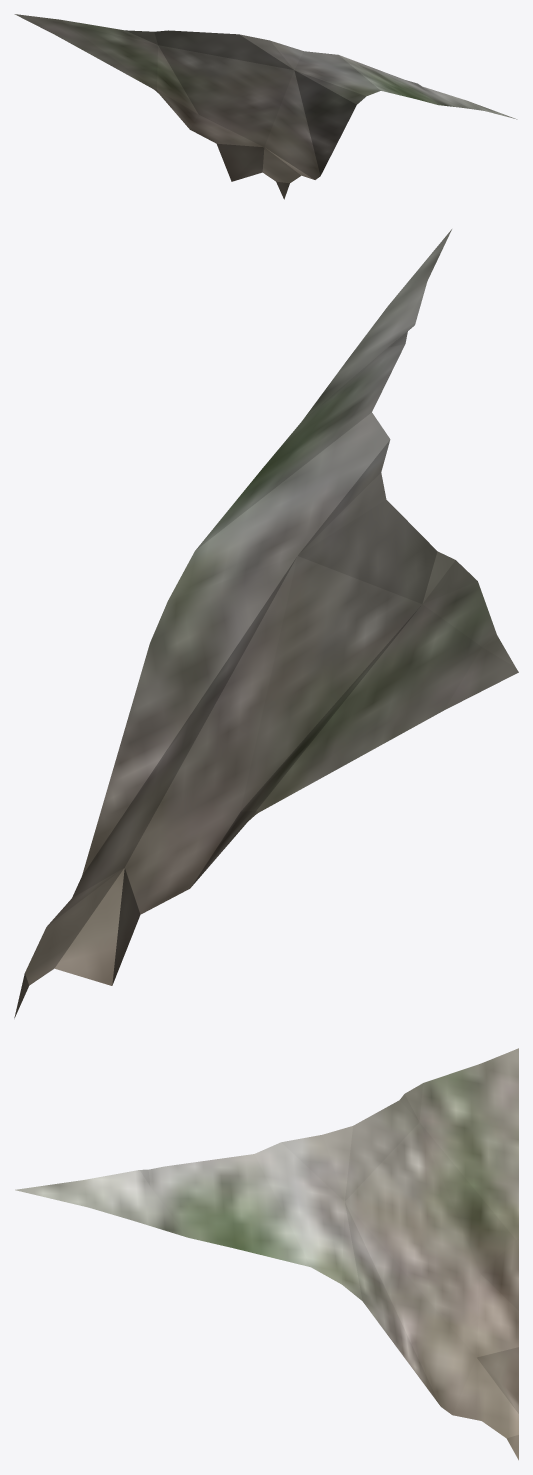
3 renders of one model, top to bottom at view 1: azimuth 30°, elevation 25°; view 2: azimuth 150°, elevation 25°; view 3: azimuth 270°, elevation 25°, orthographic. The views are drawn at different scales.
Size of the model in its own units: 0.8591 by 0.7652 by 1.29.
1 material, 1 textured.
